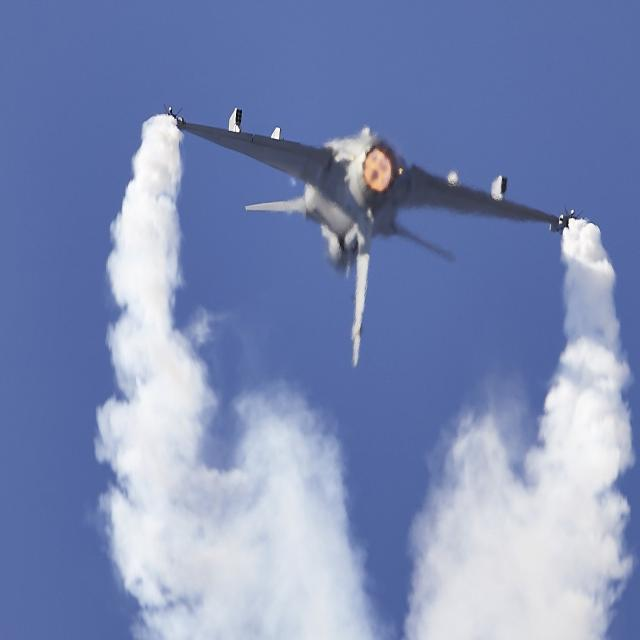MIL_Plane: (163, 103, 584, 367)
